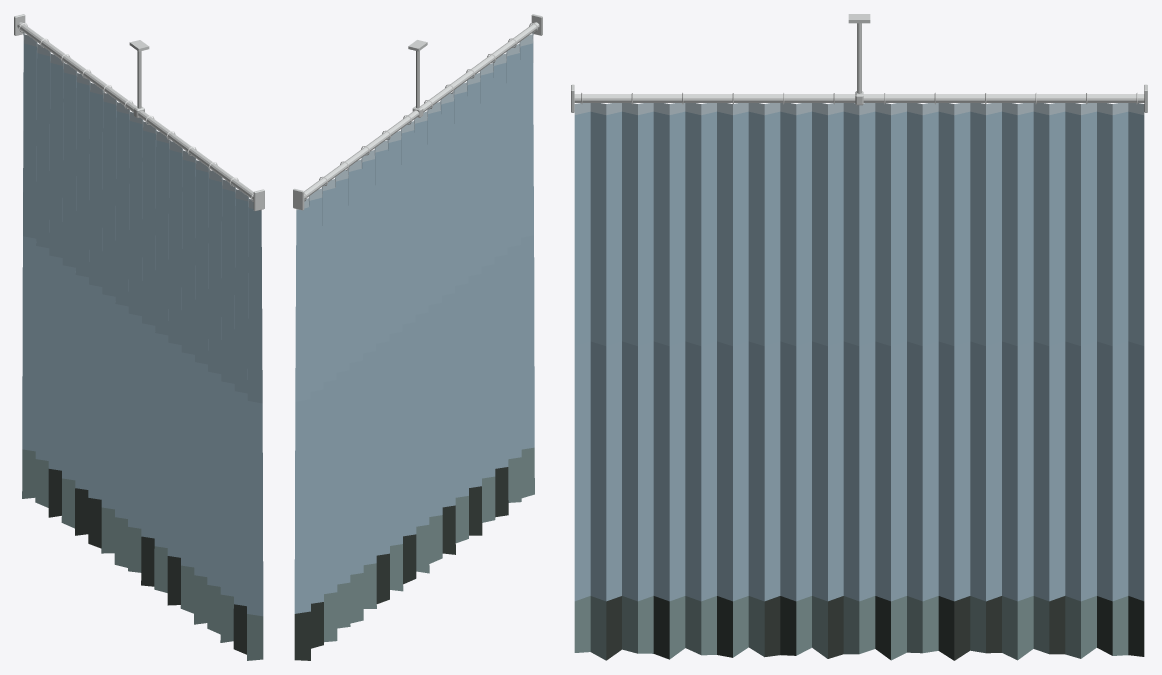
File: shower_curtain.glb
3 renders of one model, left to right at view 1: azimuth 30°, elevation 25°; view 2: azimuth 150°, elevation 25°; view 3: azimuth 270°, elevation 25°, orthographic. The views are drawn at different scales.
Parts seen in each view (by area): view 1: curtain, rod; view 2: curtain, rod; view 3: curtain, rod.
Part boxes in pixels (box(x1,y1,x2,y2)): curtain: box(19, 23, 263, 660); rod: box(14, 14, 264, 211); curtain: box(294, 23, 537, 660); rod: box(293, 14, 542, 210); curtain: box(574, 93, 1144, 660); rod: box(571, 14, 1147, 112).
Size of the model in its own units: 0.04 by 1.96 by 1.6.
